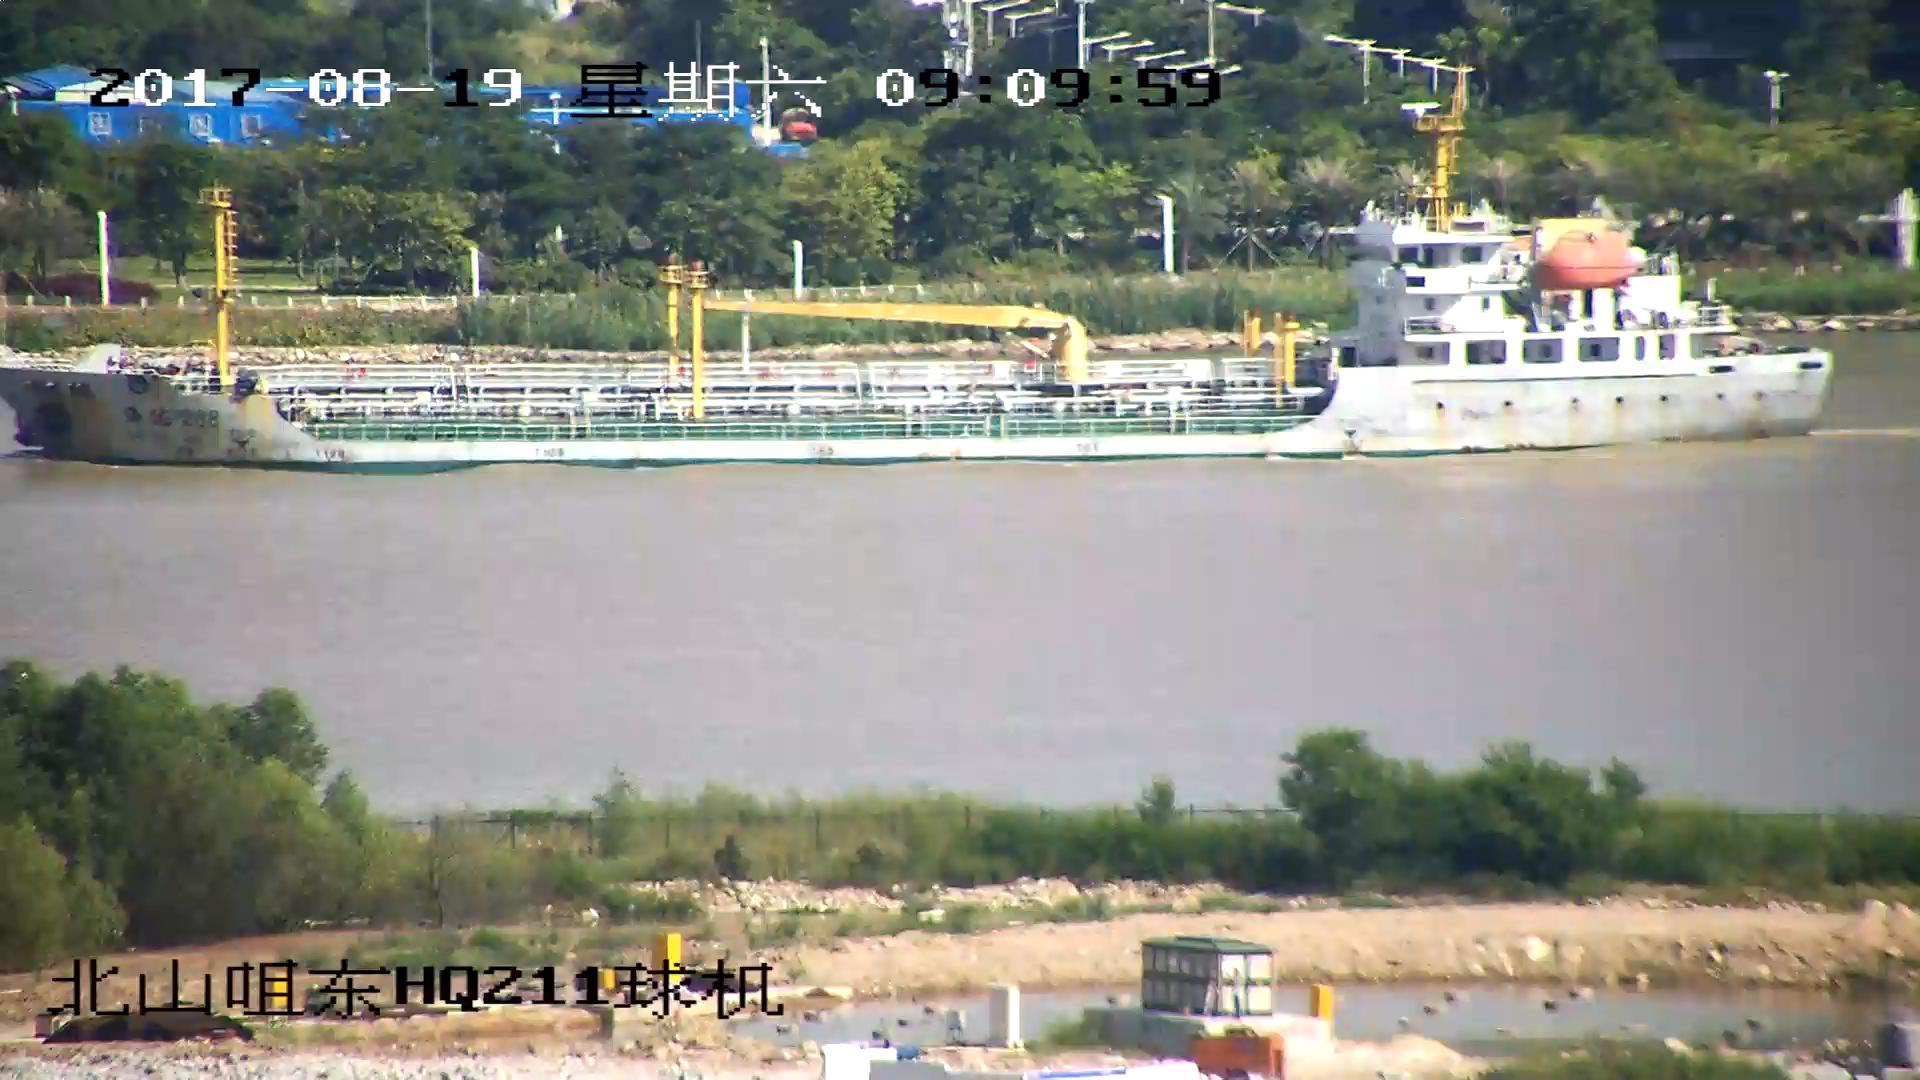Ship: (3, 123, 1838, 469)
